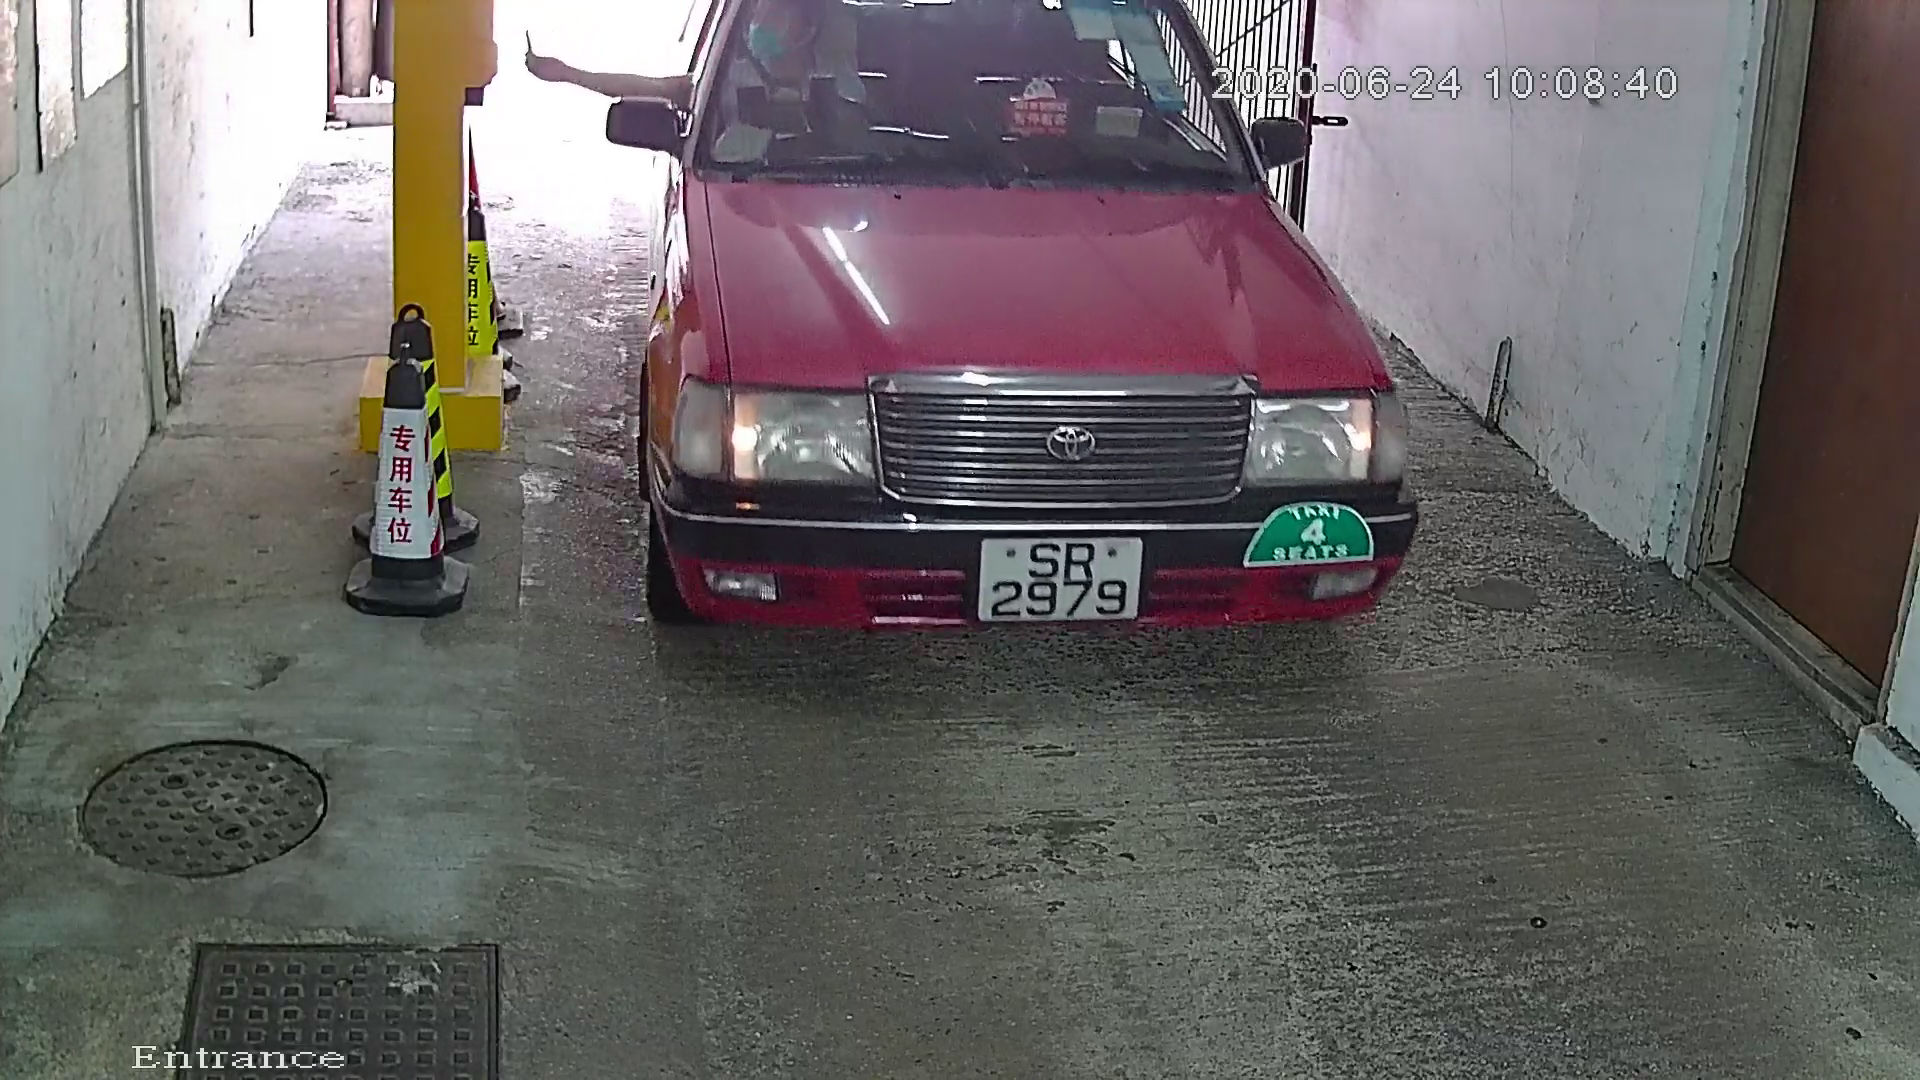Car: (592, 1, 1432, 706)
License Plate: (965, 526, 1153, 632)
